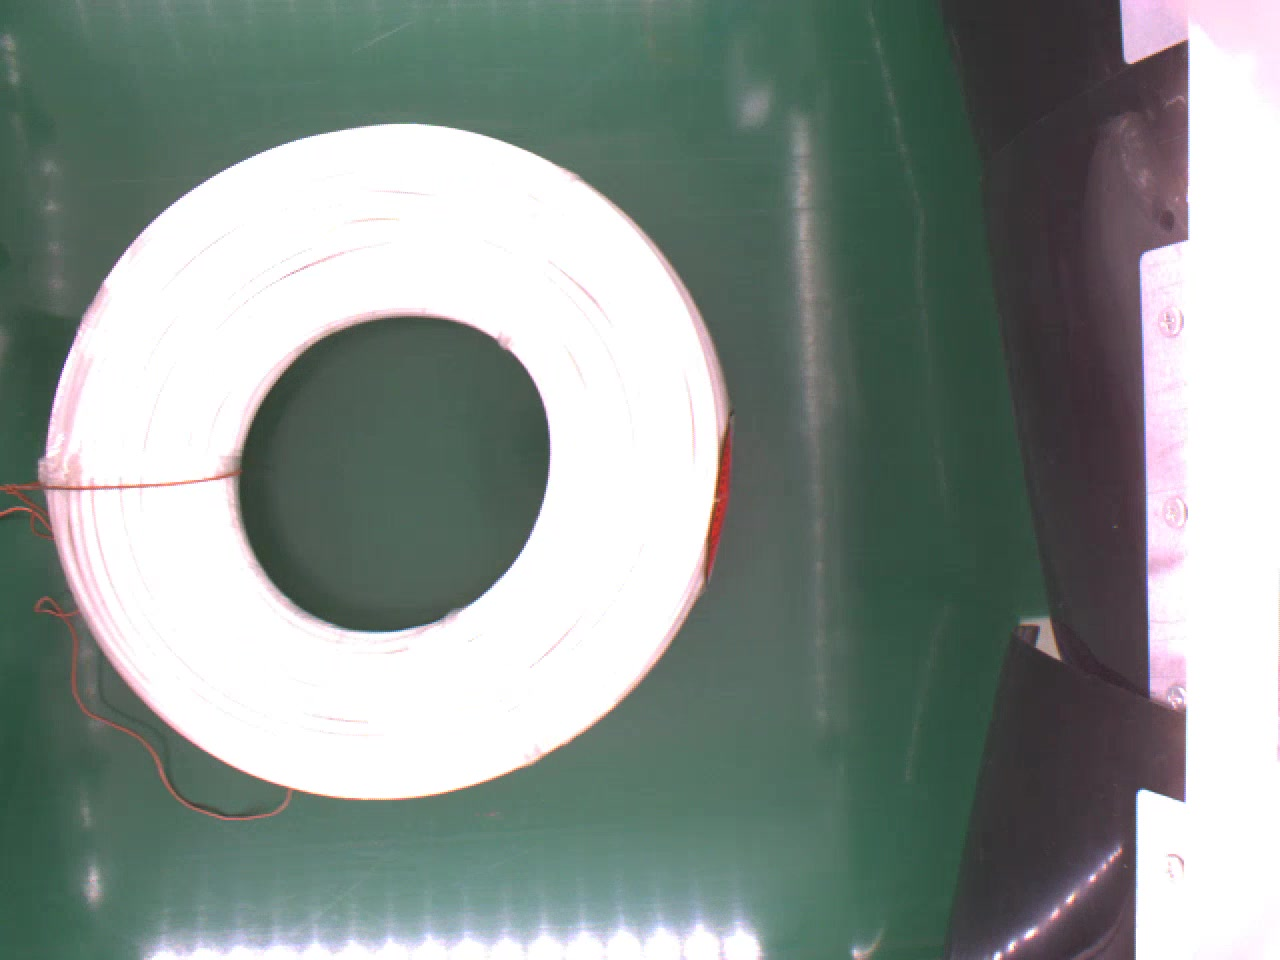white: (41, 118, 736, 801)
